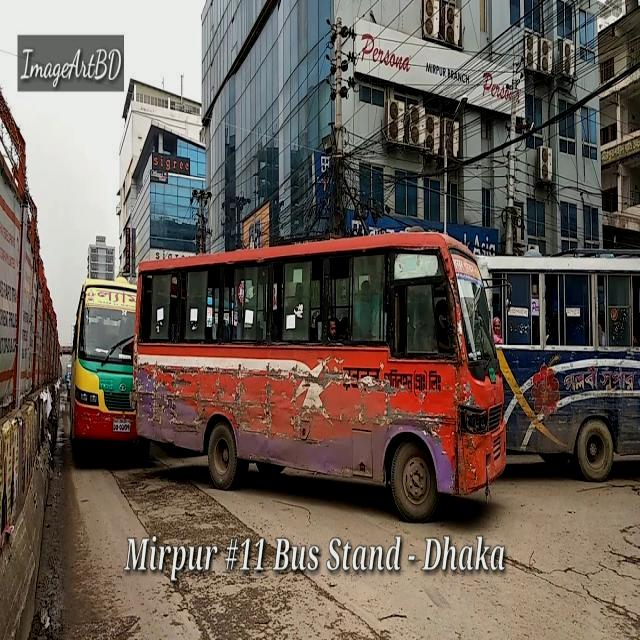bus: (133, 226, 508, 524)
